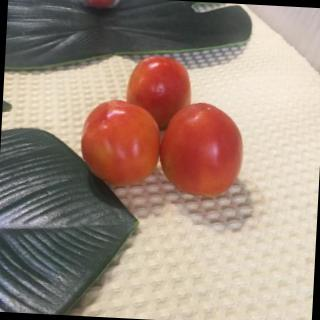Tomat: (74, 49, 259, 215)
